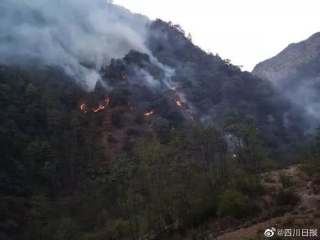fire: (72, 99, 122, 117), (172, 99, 185, 110), (144, 109, 154, 117)
smoke: (7, 6, 172, 86)
